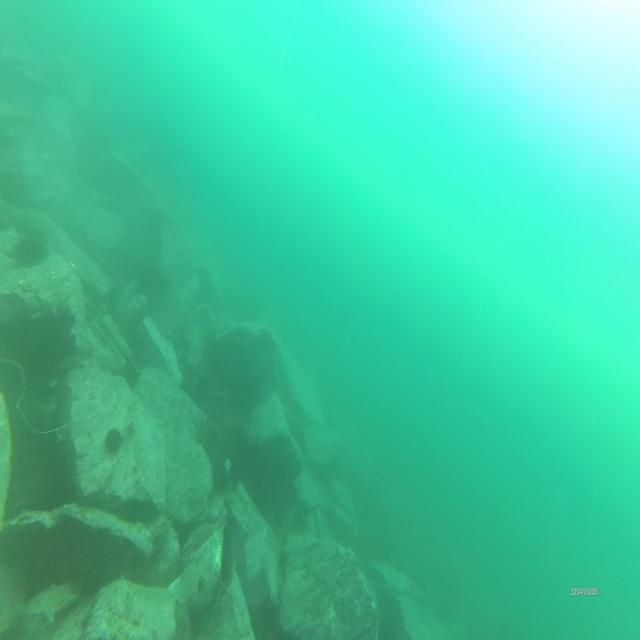echinus: (12, 237, 49, 272), (102, 420, 126, 462), (209, 462, 228, 500), (192, 379, 214, 411)
